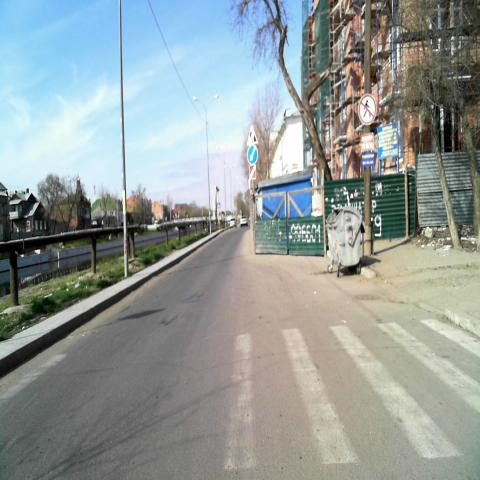3_10: (359, 94, 378, 125)
4_2_2: (247, 147, 258, 164)
